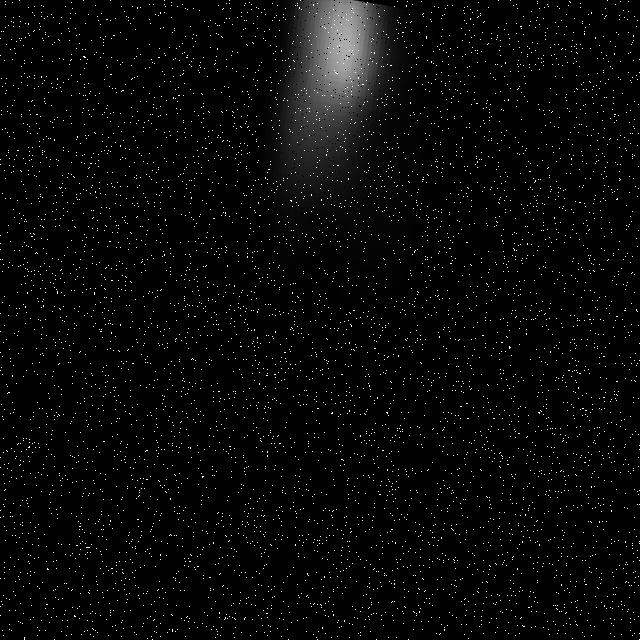person: (166, 1, 472, 478)
